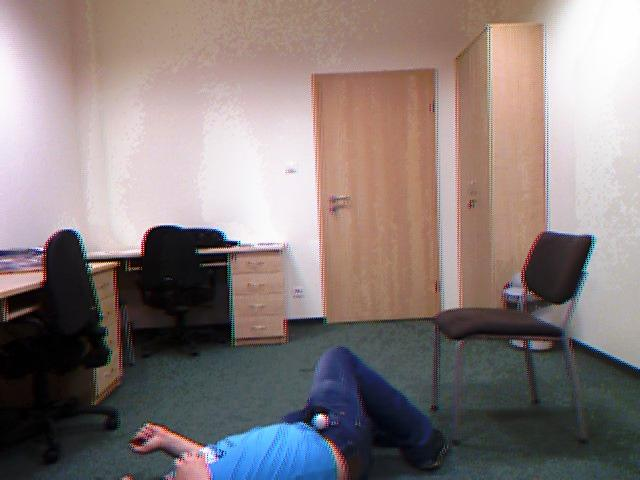fall: (130, 348, 449, 479)
